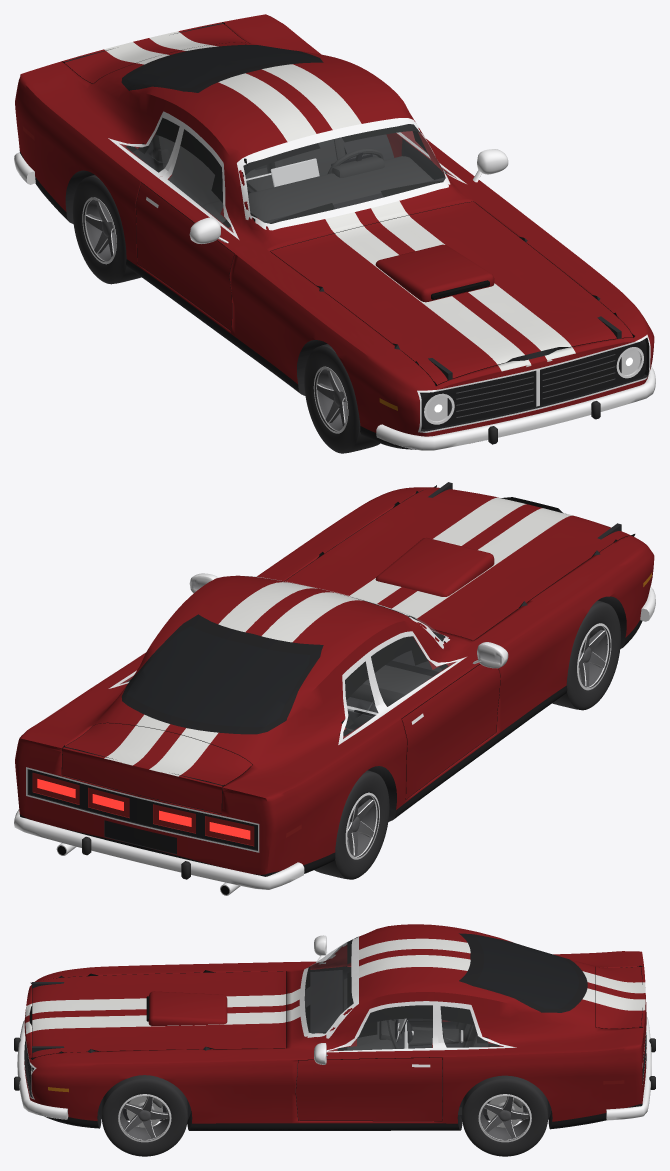
File: cinder.glb
The picture shows the model from 3 angles, top to bottom: view 1: azimuth 30°, elevation 25°; view 2: azimuth 150°, elevation 25°; view 3: azimuth 270°, elevation 25°; orthographic projection. The views are drawn at different scales.
Parts seen in each view (by area): view 1: body, bonnet_body, glass_windshield, interior, door_R_body, bumpers, wheel_FR_mesh, wheel_RR_mesh, hood_scoop, door_R_glass_side_R, boot_body, glass_side_R (+2 smaller); view 2: body, bonnet_body, boot_body, door_R_body, bumpers, wheel_RR_mesh, wheel_FR_mesh, hood_scoop, door_R_glass_side_R, interior, glass_side_R, mirror_R (+1 smaller); view 3: body, bonnet_body, door_L_body, wheel_FL_mesh, wheel_RL_mesh, interior, glass_windshield, door_L_glass_side_L, boot_body, hood_scoop, bumpers, glass_side_L.
Boxes of the visible parts, <box> form: body: <box>15,14,654,449</box>; bonnet_body: <box>270,201,634,385</box>; glass_windshield: <box>237,118,450,230</box>; interior: <box>132,134,445,223</box>; door_R_body: <box>136,183,234,330</box>; bumpers: <box>14,152,655,450</box>; wheel_FR_mesh: <box>304,344,379,453</box>; wheel_RR_mesh: <box>72,175,141,284</box>; hood_scoop: <box>375,244,494,302</box>; door_R_glass_side_R: <box>158,121,239,239</box>; boot_body: <box>62,22,249,83</box>; glass_side_R: <box>108,111,181,177</box>; body: <box>15,487,654,876</box>; bonnet_body: <box>284,485,635,640</box>; boot_body: <box>62,723,252,813</box>; door_R_body: <box>401,664,500,799</box>; bumpers: <box>14,587,655,889</box>; wheel_RR_mesh: <box>314,770,389,879</box>; wheel_FR_mesh: <box>552,600,620,710</box>; hood_scoop: <box>375,537,494,596</box>; door_R_glass_side_R: <box>364,631,466,712</box>; interior: <box>346,650,442,731</box>; glass_side_R: <box>338,656,386,744</box>; mirror_R: <box>472,642,508,668</box>; body: <box>24,924,646,1130</box>; bonnet_body: <box>29,970,286,1059</box>; door_L_body: <box>296,1057,442,1121</box>; wheel_FL_mesh: <box>101,1075,187,1156</box>; wheel_RL_mesh: <box>462,1075,548,1156</box>; interior: <box>295,970,526,1114</box>; glass_windshield: <box>299,936,358,1038</box>; door_L_glass_side_L: <box>326,1001,444,1052</box>; boot_body: <box>595,966,646,1047</box>; hood_scoop: <box>146,991,227,1025</box>; bumpers: <box>14,1017,655,1120</box>; glass_side_L: <box>438,1001,516,1050</box>.
Size of the model in its own units: 2.16 by 1.31 by 4.9.
